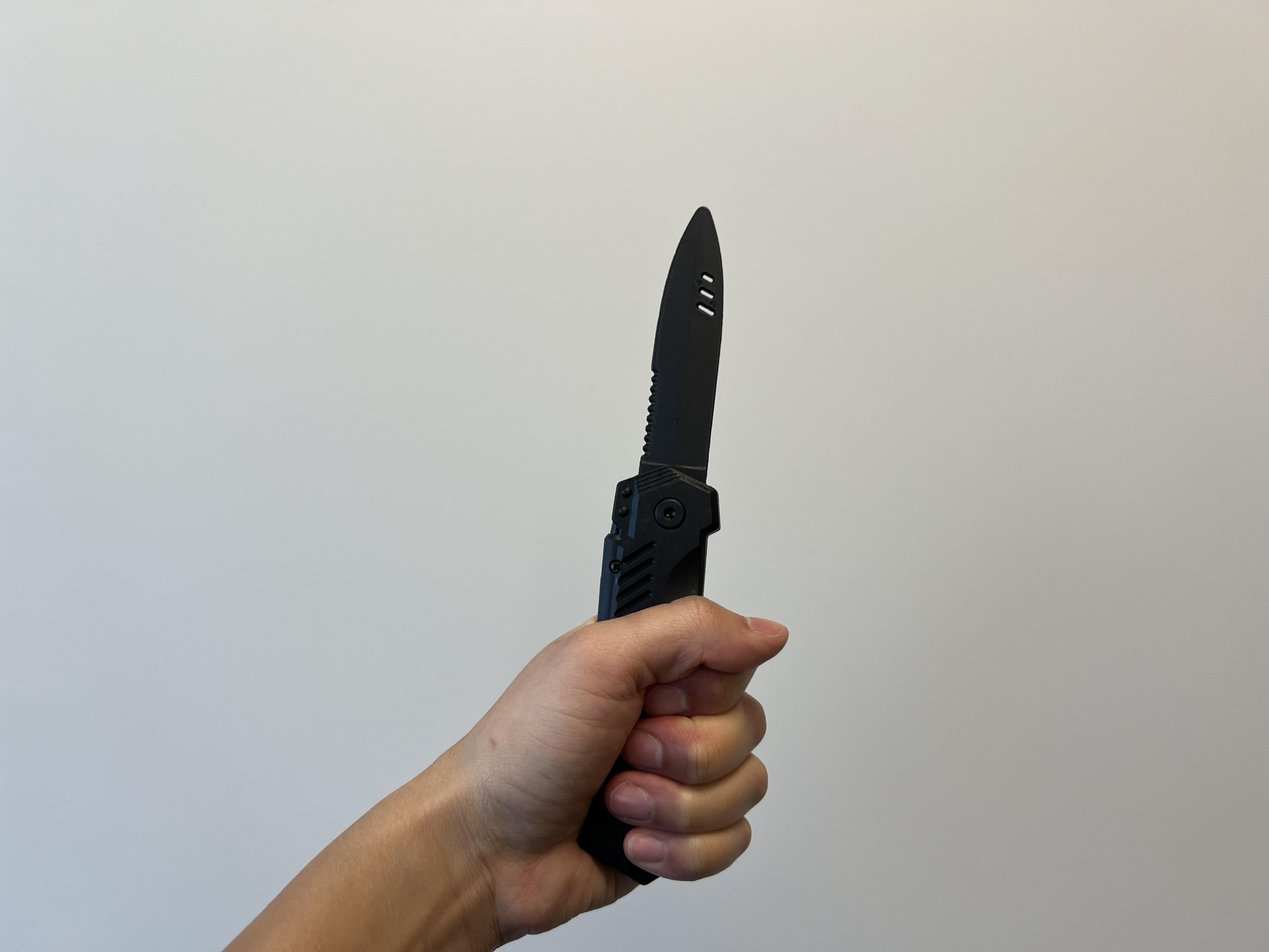Knife: (225, 599, 788, 952), (472, 595, 790, 925), (599, 205, 725, 607)
